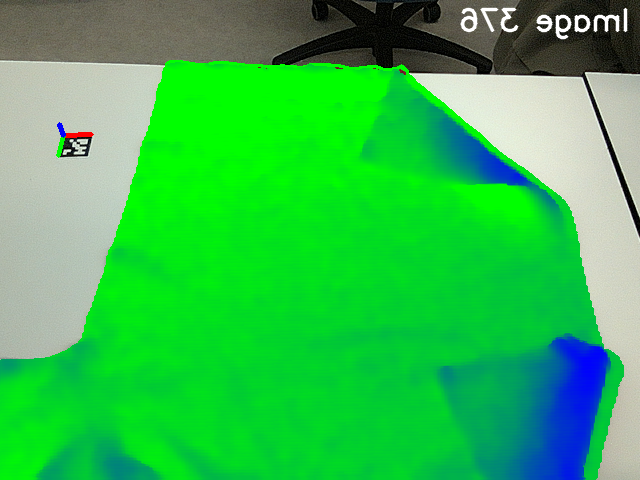V: (423, 343, 507, 417), (348, 120, 412, 176)
